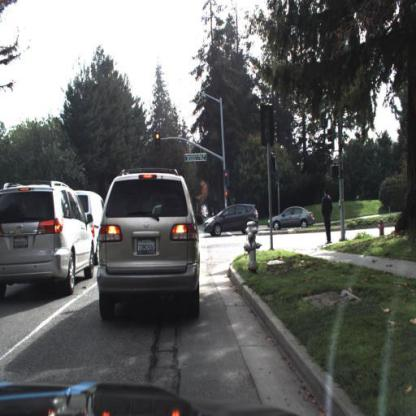car: (96, 172, 202, 322), (1, 180, 98, 293), (203, 202, 262, 237), (80, 186, 106, 265), (266, 205, 316, 229)
pedestrian: (322, 187, 332, 243)
trafficLight-Red: (155, 131, 162, 152), (223, 170, 230, 189)
